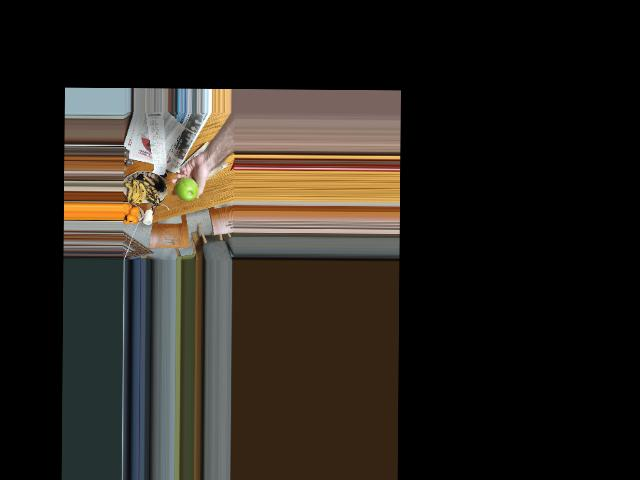apple: (175, 176, 199, 202)
